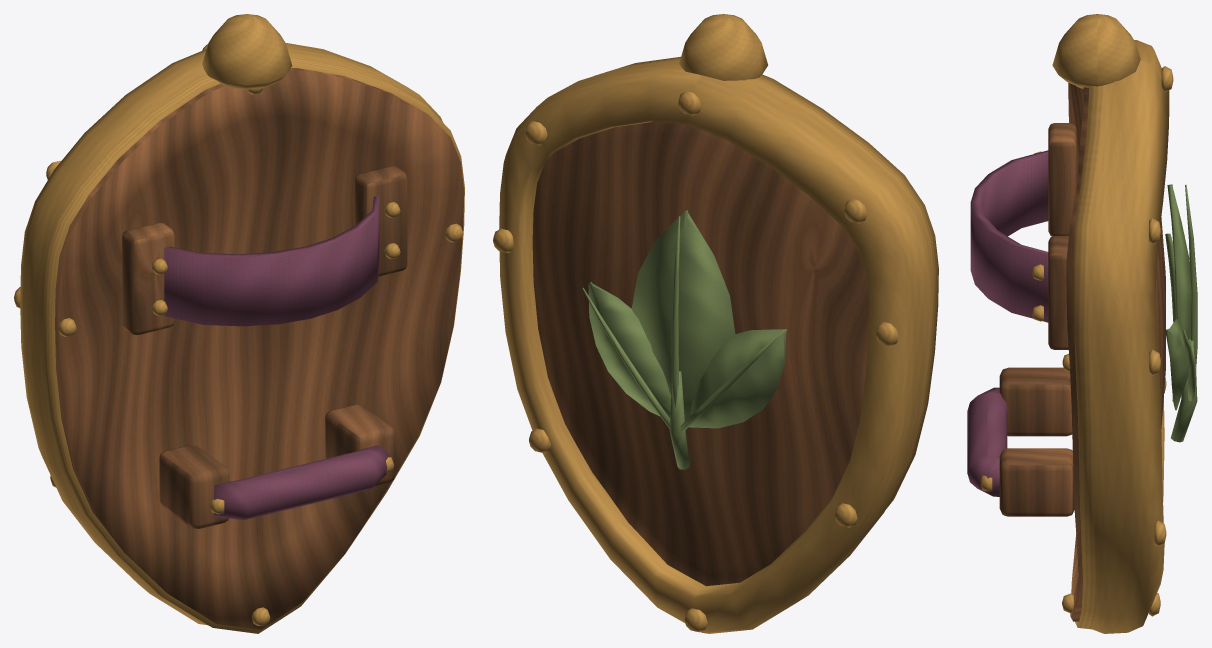
File: acorn-shield.glb
The picture shows the model from 3 angles, left to right: view 1: azimuth 30°, elevation 25°; view 2: azimuth 150°, elevation 25°; view 3: azimuth 270°, elevation 25°; orthographic projection.
Parts seen in each view (by area): view 1: acorn-shield_grip; view 2: acorn-shield_grip; view 3: acorn-shield_grip.
Boxes of the visible parts, <box> form: acorn-shield_grip: <box>14,14,464,633</box>; acorn-shield_grip: <box>493,14,938,633</box>; acorn-shield_grip: <box>967,14,1197,633</box>.
Bounding box in the file's own units: 0.2863 × 0.4 × 0.1366.
Materials: 4 (4 with a texture image).
